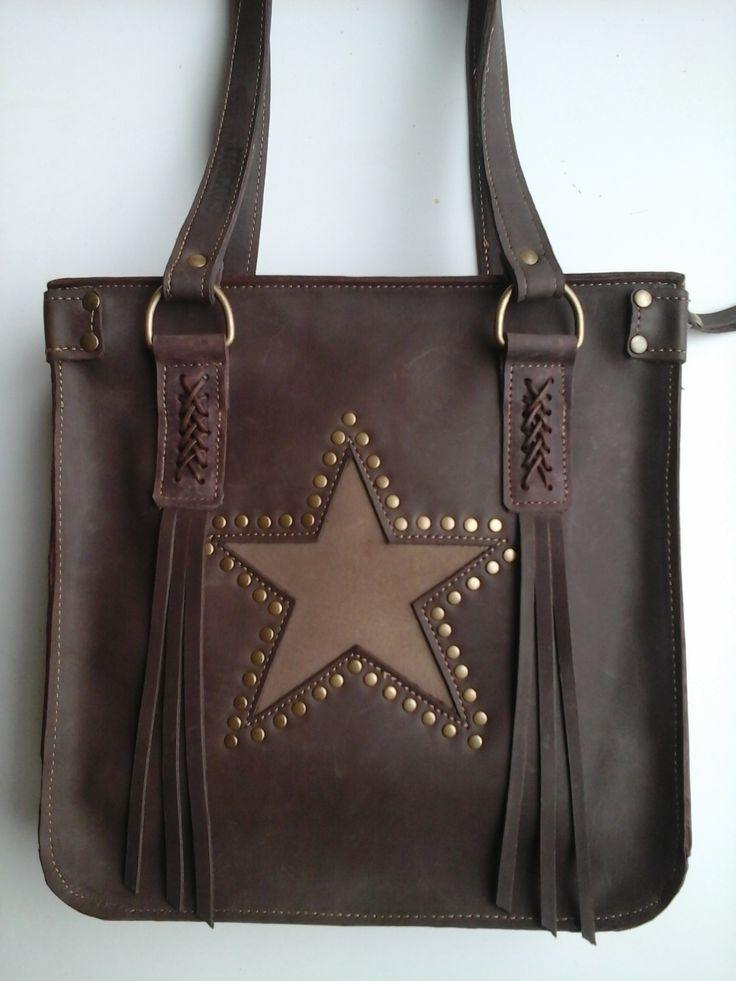cuero: (36, 1, 690, 935)
